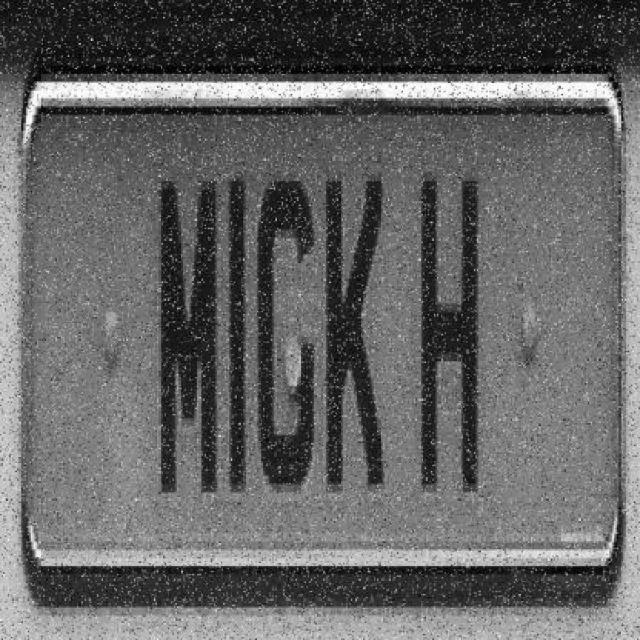licenseplate: (14, 58, 631, 607)
